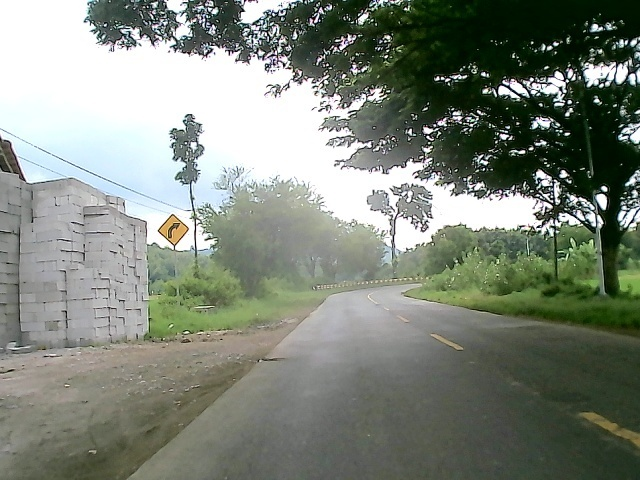Tikungan ke kanan: (156, 214, 190, 246)
